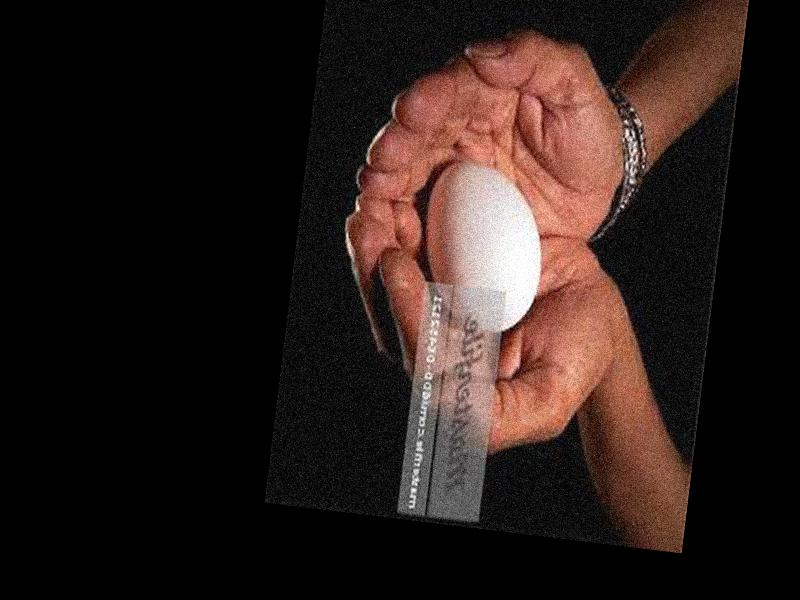Eggs: (412, 156, 552, 336)
